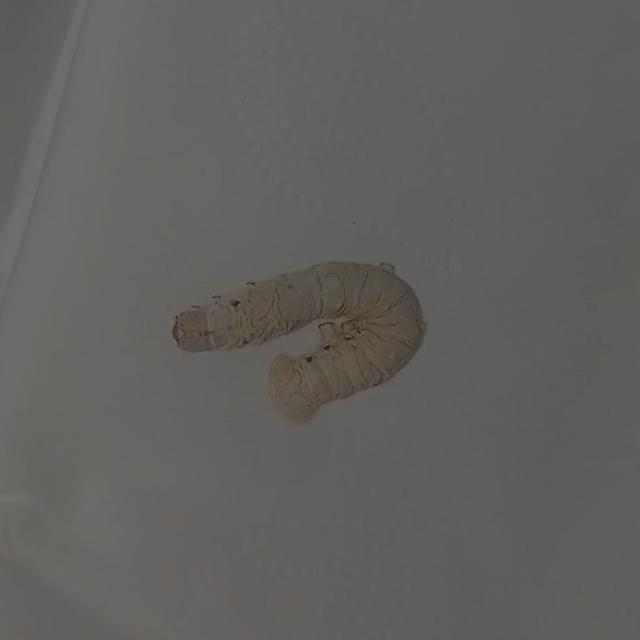Healthy: (166, 253, 437, 426)
